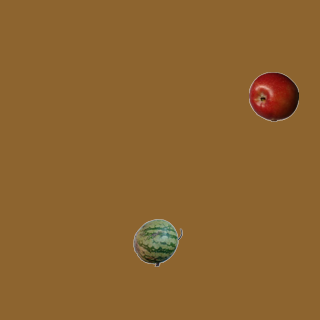Apple Braeburn: (248, 71, 298, 121)
Watermelon: (132, 217, 182, 267)
